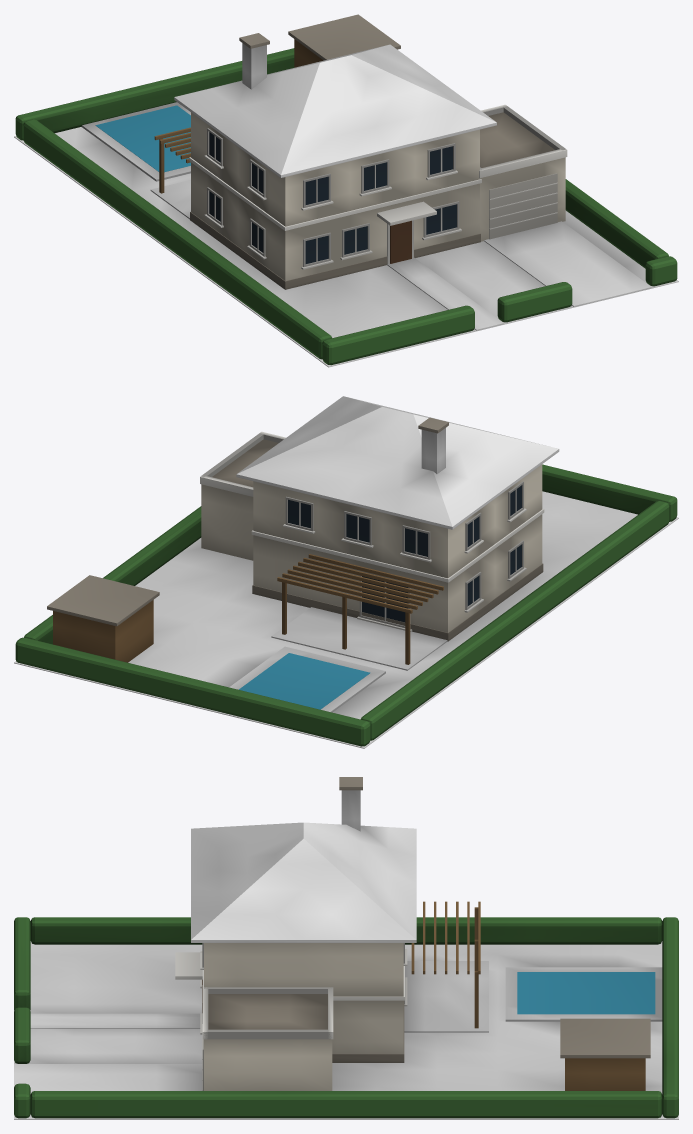
Rendered from clasica-BxBm_TbD.glb.
The picture shows the model from 3 angles, top to bottom: view 1: azimuth 30°, elevation 25°; view 2: azimuth 150°, elevation 25°; view 3: azimuth 270°, elevation 25°; orthographic projection. The views are drawn at different scales.
Visible parts, largest first — view 1: techo, pieza.009, pasto, pieza.004, pieza.006, pieza.003, pieza, porton, piscina.001, pieza.005, pieza.032, pieza.008 (+17 smaller); view 2: pasto, techo, pieza.009, pieza.003, pieza.004, pieza.020, piscina.001, pieza.031, pieza.011, pieza.032, pieza, pieza.005 (+16 smaller); view 3: pasto, techo, pieza.005, pieza.009, pieza.004, pieza.011, piscina.001, pieza.020, pieza.006, pieza.012, pieza.032, pieza.003 (+11 smaller).
Boxes of the visible parts, x1,y1,x2,y2 form: techo: (174, 44, 496, 177); pieza.009: (191, 112, 479, 280); pasto: (14, 127, 678, 367); pieza.004: (23, 119, 331, 359); pieza.006: (484, 221, 651, 306); pieza.003: (15, 48, 294, 140); pieza: (322, 305, 474, 365); porton: (489, 173, 557, 239); piscina.001: (95, 105, 190, 172); pieza.005: (565, 179, 668, 268); pieza.032: (288, 14, 400, 60); pieza.008: (190, 212, 480, 289); pasto: (14, 491, 678, 748); techo: (236, 396, 559, 529); pieza.009: (253, 464, 542, 632); pieza.003: (15, 637, 370, 746); pieza.004: (360, 501, 669, 740); pieza.020: (271, 607, 447, 670); piscina.001: (239, 653, 370, 709); pieza.031: (53, 600, 153, 662); pieza.011: (201, 484, 253, 560); pieza.032: (47, 575, 159, 626); pieza: (542, 464, 677, 521); pieza.005: (24, 506, 201, 644); pasto: (14, 941, 678, 1119); techo: (191, 822, 416, 942); pieza.005: (30, 1091, 662, 1118); pieza.009: (204, 943, 403, 1053); pieza.004: (30, 917, 662, 944); pieza.011: (204, 1039, 332, 1090); piscina.001: (517, 972, 655, 1014); pieza.020: (404, 961, 488, 1032); pieza.006: (14, 1064, 202, 1093); pieza.012: (208, 994, 327, 1029); pieza.032: (560, 1018, 650, 1058); pieza.003: (662, 917, 678, 1118).
Bounding box in the file's own units: 18 × 9.35 × 28.
